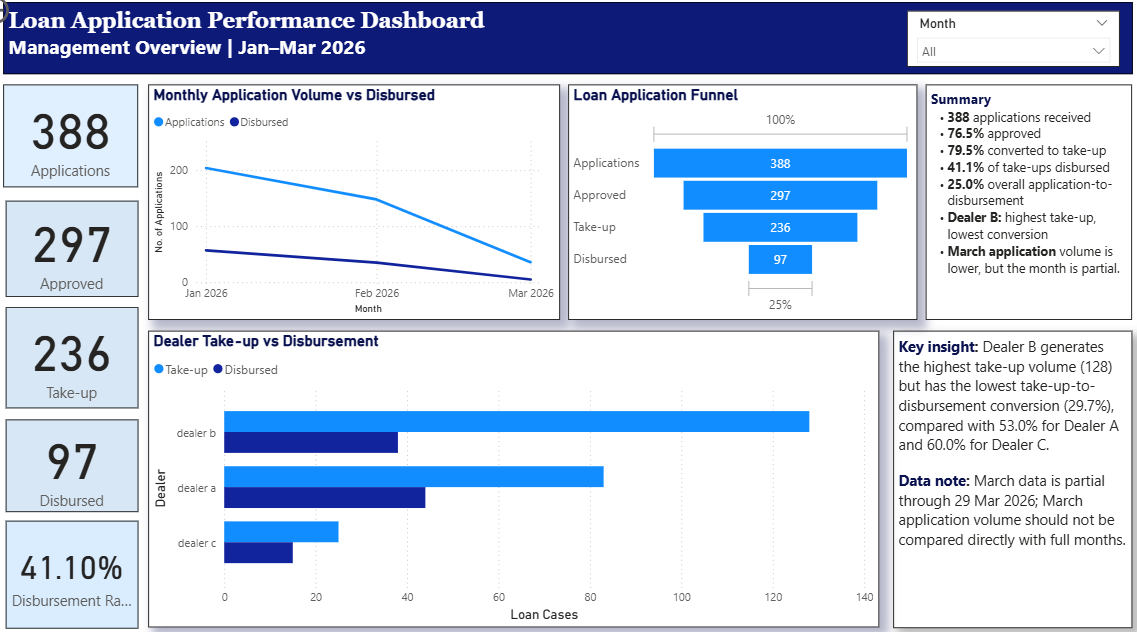

This screenshot's page, from the dashboard's own definition file:
{"tool":"powerbi","page":{"name":"Page 1","canvas":[1280,720],"ordinal":0},"visuals":[{"type":"card","fields":{"Values":["Order.Applications"]},"box":[28.5,101.2,148.2,112.6],"z":0},{"type":"card","fields":{"Values":["Order.Approved"]},"box":[31.4,229.5,145.4,105.5],"z":1000},{"type":"card","fields":{"Values":["Order.Take-up"]},"box":[31.4,346.4,145.4,111.2],"z":2000},{"type":"card","fields":{"Values":["Order.Disbursed"]},"box":[31.4,469,145.4,101.2],"z":3000},{"type":"lineChart","title":"Monthly Application Volume vs Disbursed","fields":{"Y":["Order.Applications","Order.Disbursed"],"Category":["Order.first_submit_time.Variation.Date Hierarchy.Year","Order.first_submit_time.Variation.Date Hierarchy.Quarter","Order.first_submit_time.Variation.Date Hierarchy.Month"]},"box":[188,101.9,452.1,258.4],"z":4000},{"type":"funnel","title":"Loan Application Funnel","fields":{"Y":["Order.Applications","Order.Approved","Order.Take-up","Order.Disbursed"]},"box":[648.8,101.9,383.2,258.4],"z":5000},{"type":"clusteredBarChart","title":"Dealer Take-up vs Disbursement","fields":{"Category":["dealer_bd.dealer_name"],"Y":["Order.Take-up","Order.Disbursed"]},"box":[188,371.7,802.3,325.8],"z":6000},{"type":"textbox","box":[1006.3,372,262.3,326.4],"z":7000},{"type":"textbox","box":[28.7,11.5,1240.1,78.9],"z":8000},{"type":"textbox","box":[1042,101.9,226.8,258.4],"z":9000},{"type":"actionButton","box":[0,0,100,40],"z":10000},{"type":"slicer","fields":{"Values":["Order.first_submit_time.Variation.Date Hierarchy.Month"]},"box":[1020.6,20,233.8,61.3],"z":11000},{"type":"card","fields":{"Values":["Order.Disbursement Rate"]},"box":[31.4,580.1,145.4,118.3],"z":12000}]}

Visuals, with their boxes in screenshot pixels (x1, y1, x2, y2), scaled from the page's 1280x720 canvas onto the 1137x632 screenshot:
card - Order.Applications: box=[25, 89, 157, 188]
card - Order.Approved: box=[28, 201, 157, 294]
card - Order.Take-up: box=[28, 304, 157, 402]
card - Order.Disbursed: box=[28, 412, 157, 501]
"Monthly Application Volume vs Disbursed" lineChart: box=[167, 89, 569, 316]
"Loan Application Funnel" funnel: box=[576, 89, 917, 316]
"Dealer Take-up vs Disbursement" clusteredBarChart: box=[167, 326, 880, 612]
textbox: box=[894, 327, 1127, 613]
textbox: box=[25, 10, 1127, 79]
textbox: box=[926, 89, 1127, 316]
actionButton: box=[0, 0, 89, 35]
slicer - Order.first_submit_time.Variation.Date Hierarchy.Month: box=[907, 18, 1114, 71]
card - Order.Disbursement Rate: box=[28, 509, 157, 613]
